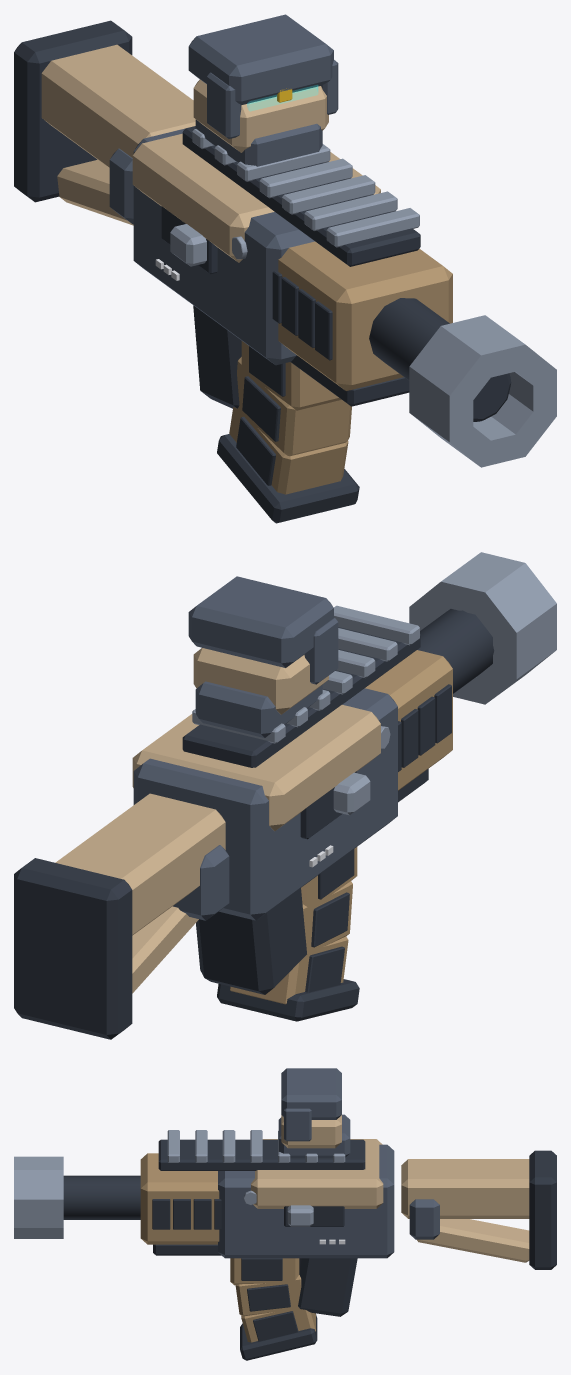
Rendered from Military_SMG_v002.fbx.
3 views of the same model, one above another, from view 1: azimuth 30°, elevation 25°; view 2: azimuth 150°, elevation 25°; view 3: azimuth 270°, elevation 25° (orthographic). The views are drawn at different scales.
Visible parts, largest first — view 1: Military_SMG__RECEIVER_MESH, Military_SMG__MAGAZINE_MESH; view 2: Military_SMG__RECEIVER_MESH, Military_SMG__MAGAZINE_MESH; view 3: Military_SMG__RECEIVER_MESH, Military_SMG__MAGAZINE_MESH.
Boxes of the visible parts, x1,y1,x2,y2 form: Military_SMG__RECEIVER_MESH: [14, 14, 556, 467]; Military_SMG__MAGAZINE_MESH: [217, 341, 359, 523]; Military_SMG__RECEIVER_MESH: [14, 552, 556, 1039]; Military_SMG__MAGAZINE_MESH: [217, 847, 359, 1021]; Military_SMG__RECEIVER_MESH: [14, 1068, 556, 1316]; Military_SMG__MAGAZINE_MESH: [230, 1258, 317, 1360].
Bounding box in the file's own units: 0.475 × 1.07 × 1.97.
